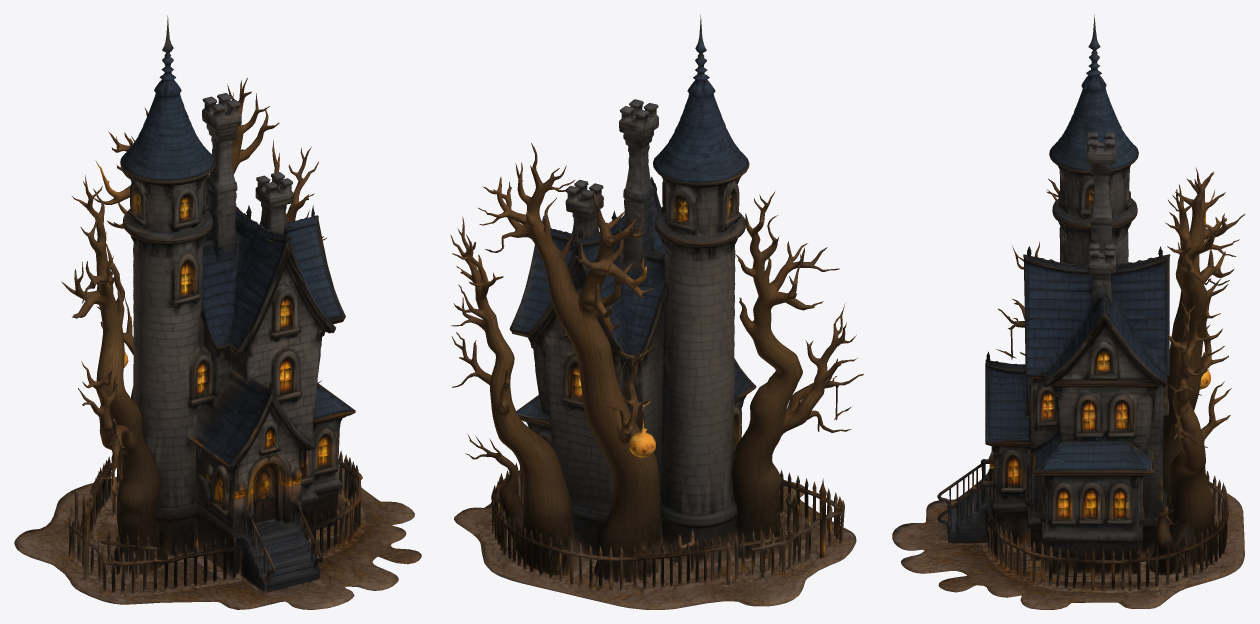
File: pixellabs-haunted-house-2825.high.glb
The picture shows the model from 3 angles, left to right: view 1: azimuth 30°, elevation 25°; view 2: azimuth 150°, elevation 25°; view 3: azimuth 270°, elevation 25°; orthographic projection. The views are drawn at different scales.
Parts seen in each view (by area): view 1: material; view 2: material; view 3: material.
Part boxes in pixels (box(x1,y1,x2,y2)): material: box(14, 15, 421, 609); material: box(450, 15, 863, 609); material: box(892, 14, 1245, 609).
Size of the model in its own units: 0.6473 by 0.9673 by 0.6238.
1 material, 1 textured.
